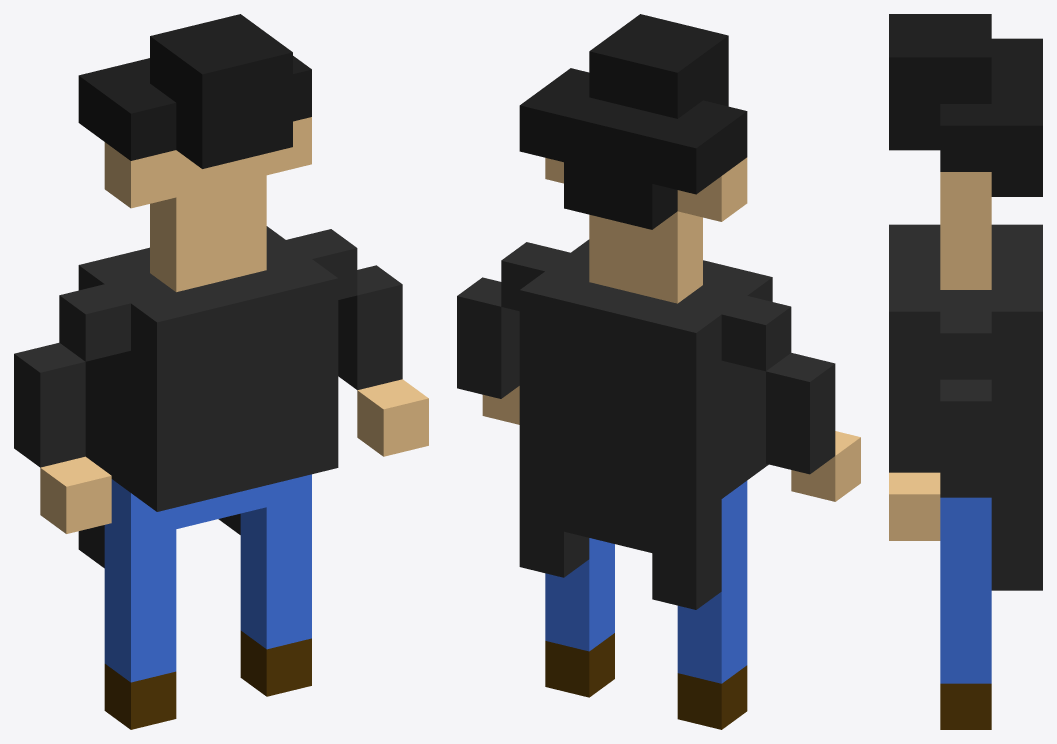
Rendered from scummBarPirate08.obj.
3 renders of one model, left to right at view 1: azimuth 30°, elevation 25°; view 2: azimuth 150°, elevation 25°; view 3: azimuth 270°, elevation 25°, orthographic. The views are drawn at different scales.
Size of the model in its own units: 8 by 14 by 3.
Materials: 1 (1 with a texture image).
